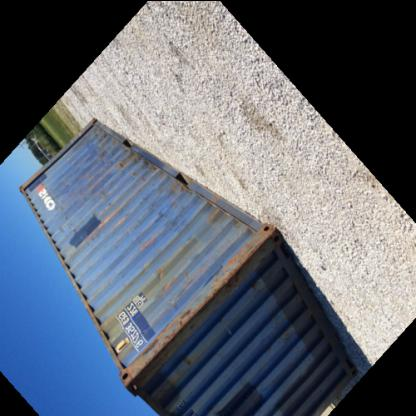Damage: (198, 230, 266, 294), (133, 322, 173, 367), (43, 194, 70, 228), (132, 228, 156, 258), (90, 127, 110, 162), (153, 262, 167, 298), (53, 170, 75, 192), (200, 204, 224, 224), (163, 178, 187, 198), (174, 304, 200, 322), (92, 180, 110, 204), (180, 350, 198, 372), (126, 170, 150, 185), (148, 208, 166, 224), (112, 158, 126, 171)
